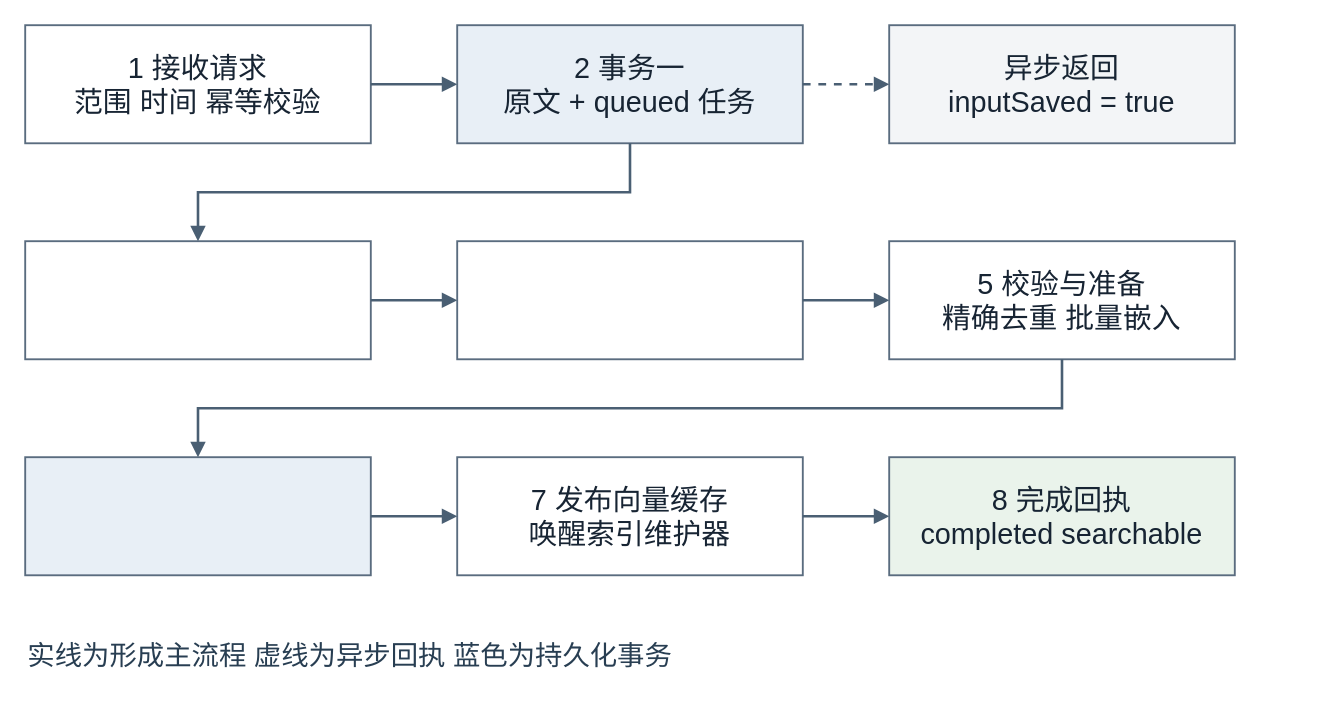
The diagram is 1318 pixels wide and 706 high, and some of its shapes have lost their labels. The shapes that lost their labels are listed below. From the top down, each one's centre as x and y in pixels, then its label:
At (197,300): "3 按序处理 tenant 内抽取锁".
At (629,300): "4 回顾与抽取 旧事实 近期消息 LLM".
At (197,516): "6 事务二 事实 向量 来源 indexing".
